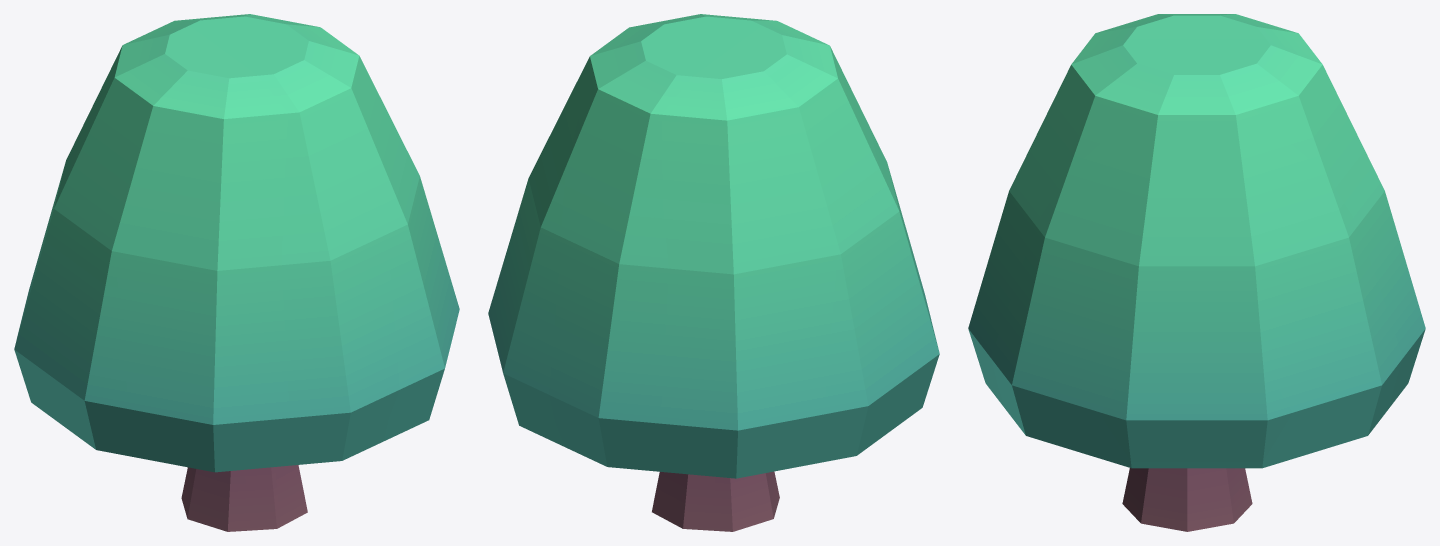
The model's file is bush003.obj.
3 renders of one model, left to right at view 1: azimuth 30°, elevation 25°; view 2: azimuth 150°, elevation 25°; view 3: azimuth 270°, elevation 25°, orthographic.
Visible parts, largest first — view 1: bush.003; view 2: bush.003; view 3: bush.003.
Part boxes in pixels (box(x1,y1,x2,y2)): bush.003: box(14, 14, 459, 531); bush.003: box(488, 14, 939, 531); bush.003: box(968, 14, 1425, 531).
Size of the model in its own units: 2.84 by 3.3 by 2.99.
Materials: 1 (1 with a texture image).
